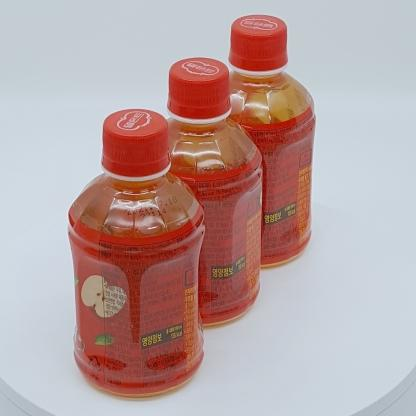----------280ML: (68, 109, 205, 400), (147, 57, 262, 328), (209, 14, 315, 269)
